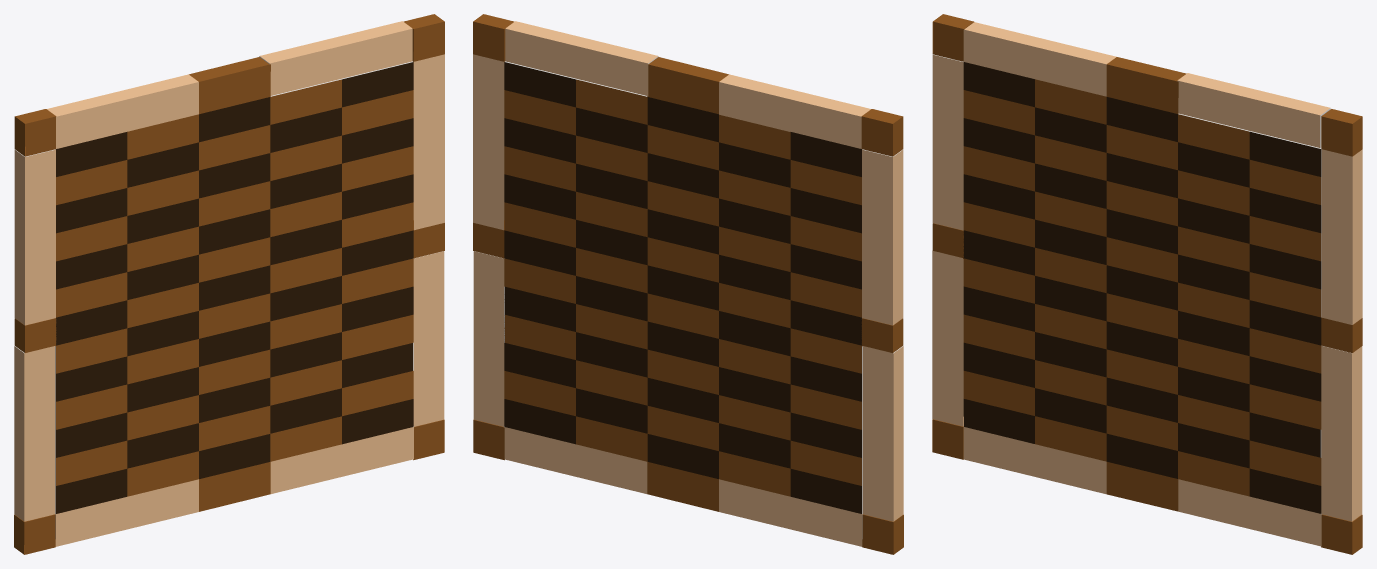
3 renders of one model, left to right at view 1: azimuth 30°, elevation 25°; view 2: azimuth 150°, elevation 25°; view 3: azimuth 330°, elevation 25°, orthographic.
Visible parts, largest first — view 1: cutting board; view 2: cutting board; view 3: cutting board.
Part boxes in pixels (box(x1,y1,x2,y2)): cutting board: box(14, 14, 444, 554); cutting board: box(473, 14, 903, 554); cutting board: box(932, 14, 1362, 554).
Size of the model in its own units: 11.75 by 11.53 by 0.5.
